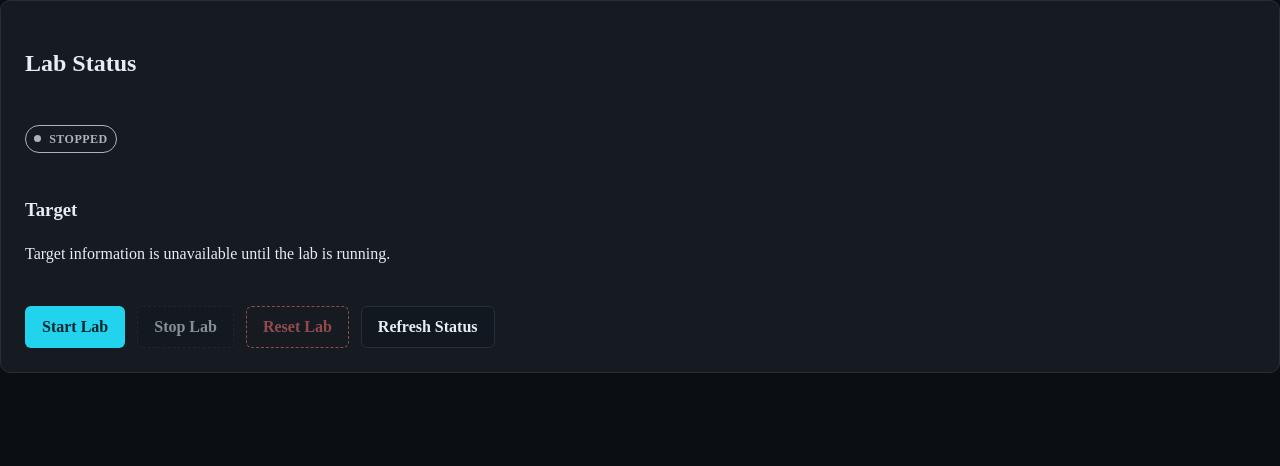
sanitizes failures and requires a fresh status before retrying
The width and height of the screenshot is (1280, 466).
Expected: the text "STOPPED" is shown, [25,125,117,153]
Click the button "Start Lab". click: point(75, 327)
box: [25,306,125,348]
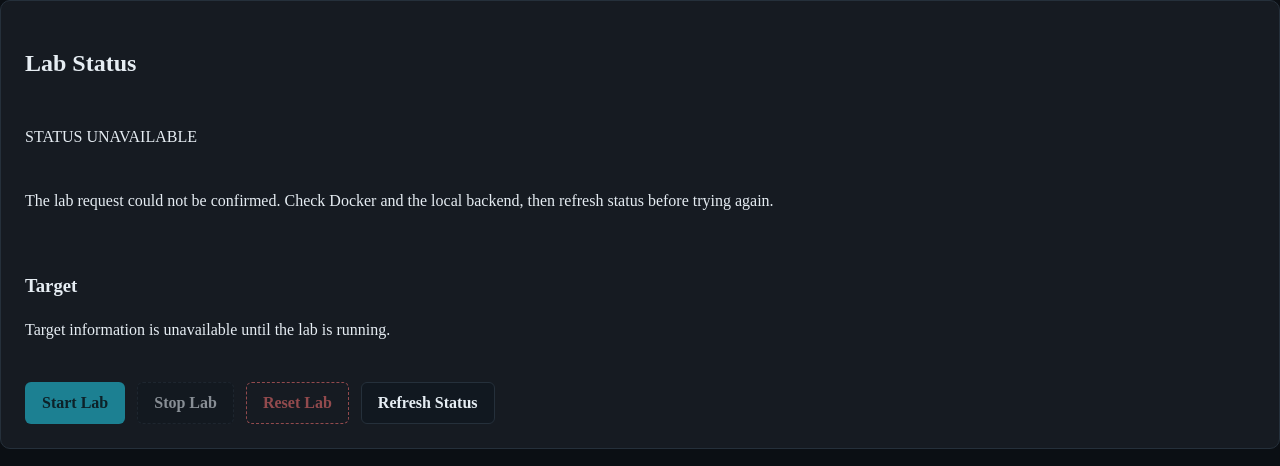
Expected: the 2nd message does not show "/private/socket", [25,192,774,209]
Expected: the button "Start Lab" is disabled, [25,382,125,424]
Click the button "Refresh Status". click: point(428, 403)
box: [361,382,494,424]
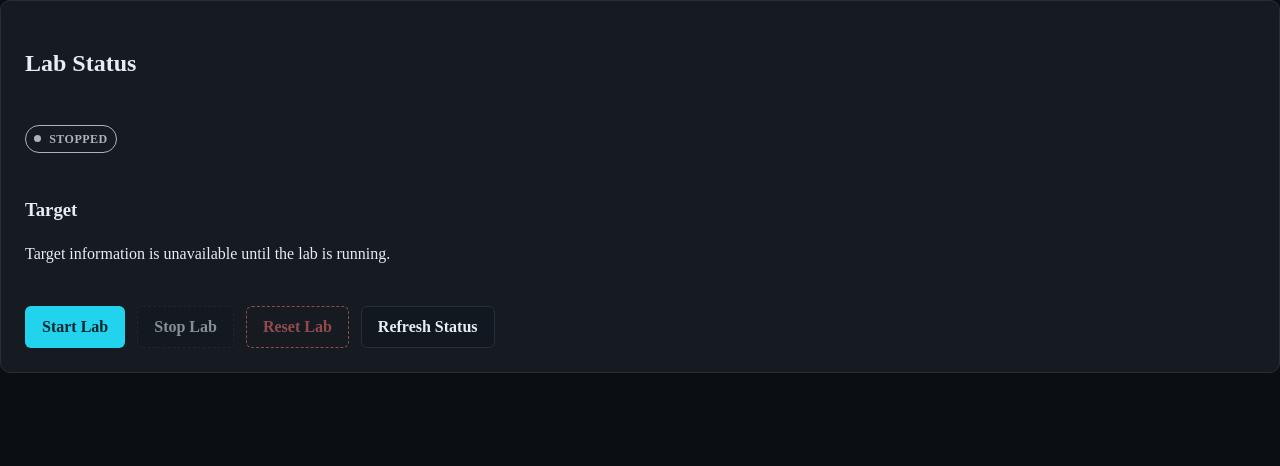
Expected: the text "STOPPED" is shown, [25,125,117,153]
